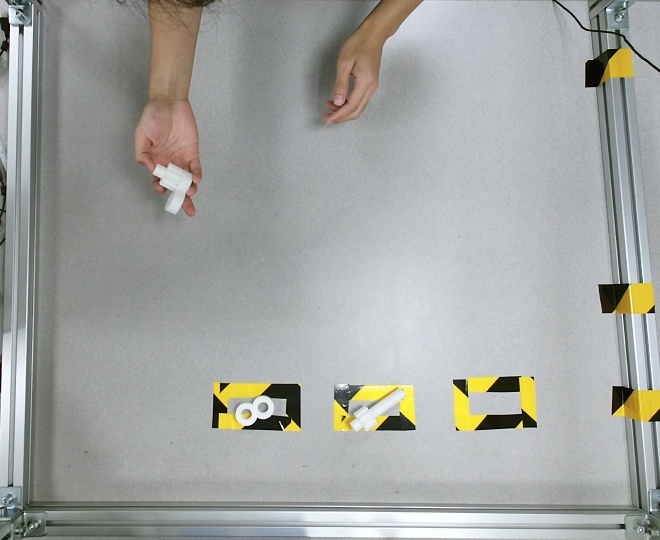stage_2: (152, 163, 193, 214)
